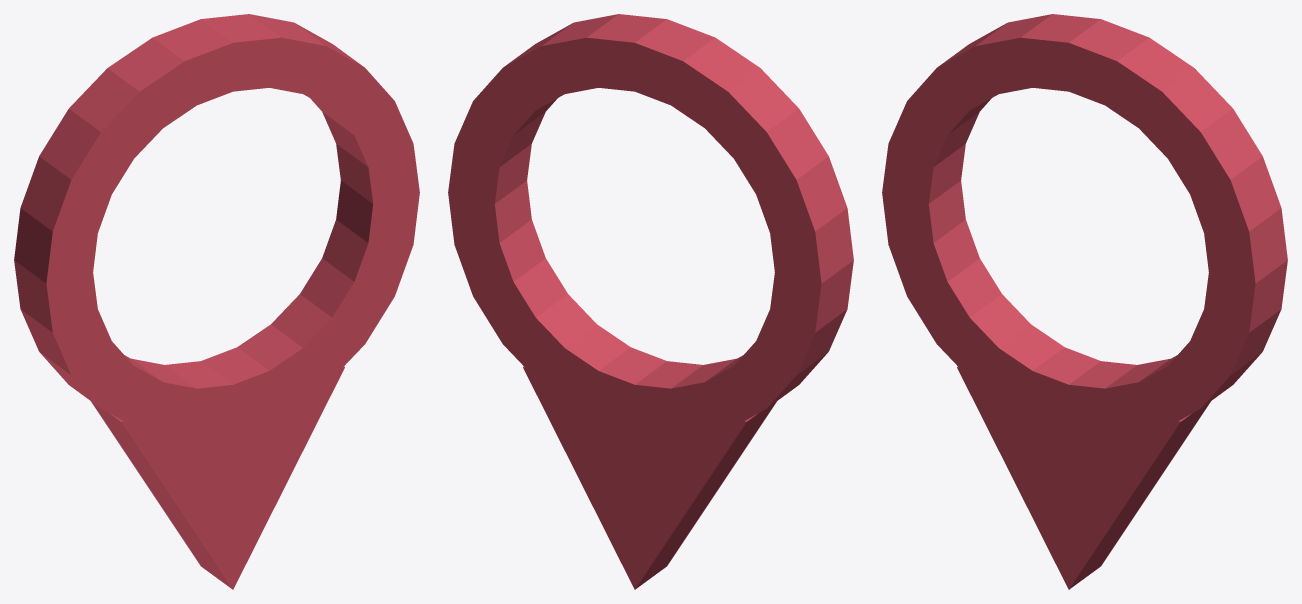
File: locate.glb
3 renders of one model, left to right at view 1: azimuth 30°, elevation 25°; view 2: azimuth 150°, elevation 25°; view 3: azimuth 330°, elevation 25°, orthographic.
Parts seen in each view (by area): view 1: Mesh_Mesh_head_geo.001_lambert2SG.001; view 2: Mesh_Mesh_head_geo.001_lambert2SG.001; view 3: Mesh_Mesh_head_geo.001_lambert2SG.001.
Part boxes in pixels (left/top/right/bottom): Mesh_Mesh_head_geo.001_lambert2SG.001: left=14, top=14, right=419, bottom=589; Mesh_Mesh_head_geo.001_lambert2SG.001: left=448, top=14, right=853, bottom=589; Mesh_Mesh_head_geo.001_lambert2SG.001: left=882, top=14, right=1287, bottom=589.
Bounding box in the file's own units: 20 × 28 × 3.
